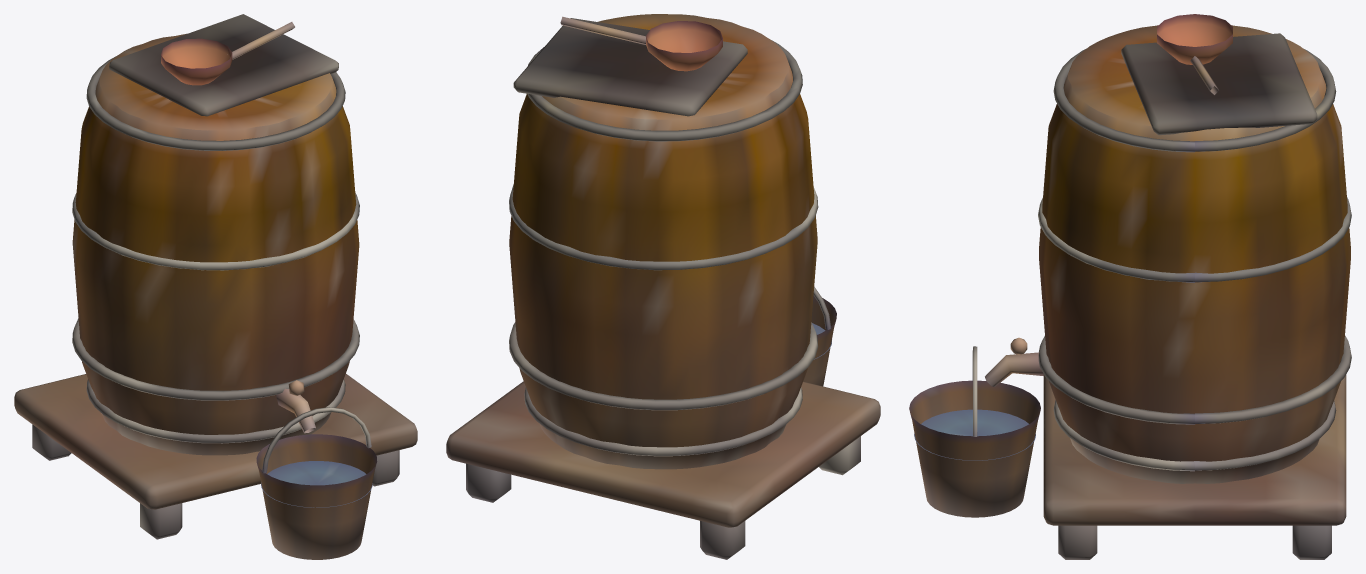
File: su_fici.glb
3 views of the same model, side by side, from view 1: azimuth 30°, elevation 25°; view 2: azimuth 150°, elevation 25°; view 3: azimuth 270°, elevation 25° (orthographic). The views are drawn at different scales.
Parts seen in each view (by area): view 1: su_fici_LOD0; view 2: su_fici_LOD0; view 3: su_fici_LOD0.
Part boxes in pixels (box(x1,y1,x2,y2)): su_fici_LOD0: box(14, 14, 417, 559); su_fici_LOD0: box(446, 14, 880, 559); su_fici_LOD0: box(909, 14, 1351, 559).
Size of what is drawn, in the model's own units: 0.7 by 1.03 by 0.906.
